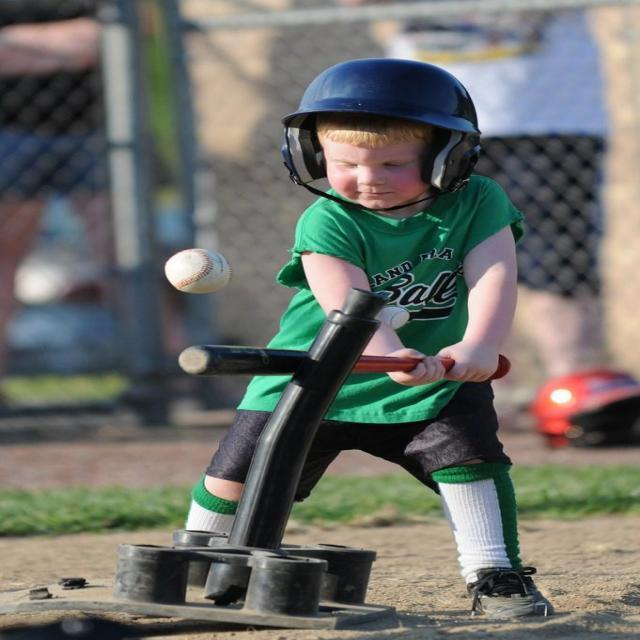baseball bat: (176, 342, 414, 376)
sports ball: (162, 247, 234, 296)
